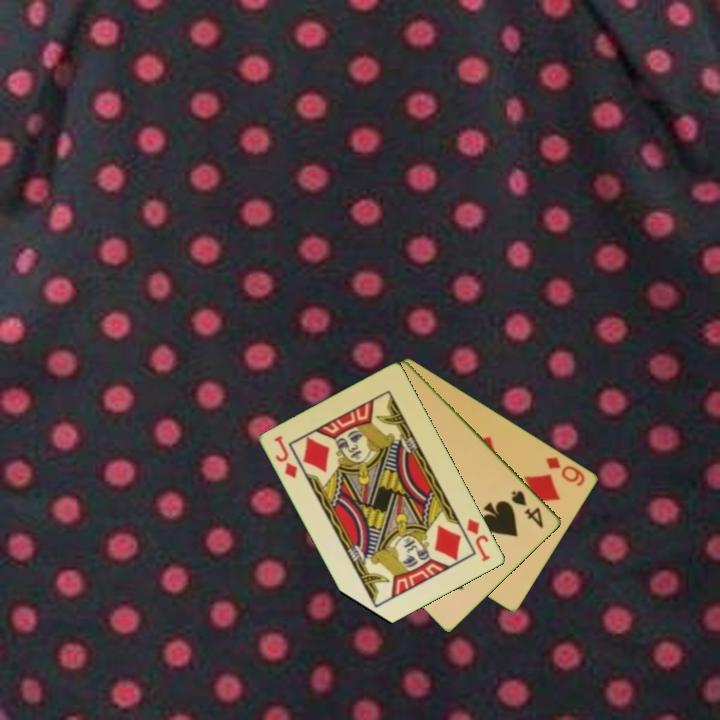4s: (508, 487, 547, 531)
6d: (543, 453, 588, 489)
Jd: (463, 515, 493, 565), (271, 432, 301, 482)
